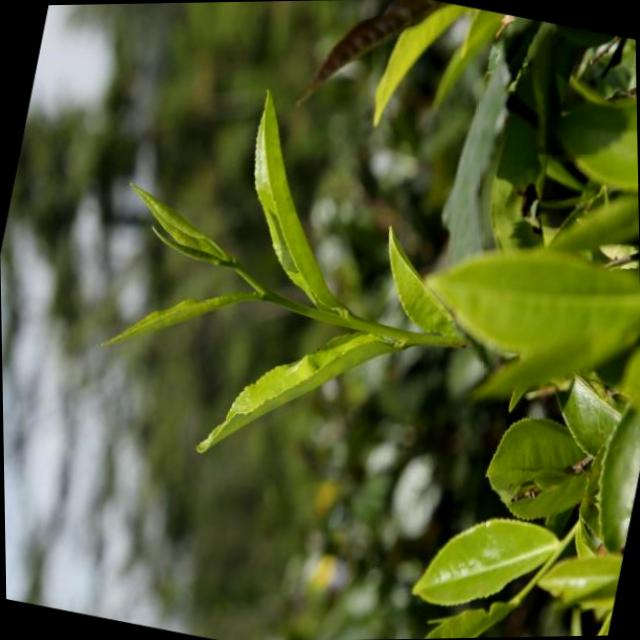Stem: (262, 287, 280, 305)
